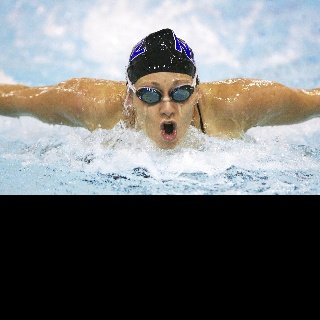without_mask: (125, 27, 200, 150)
